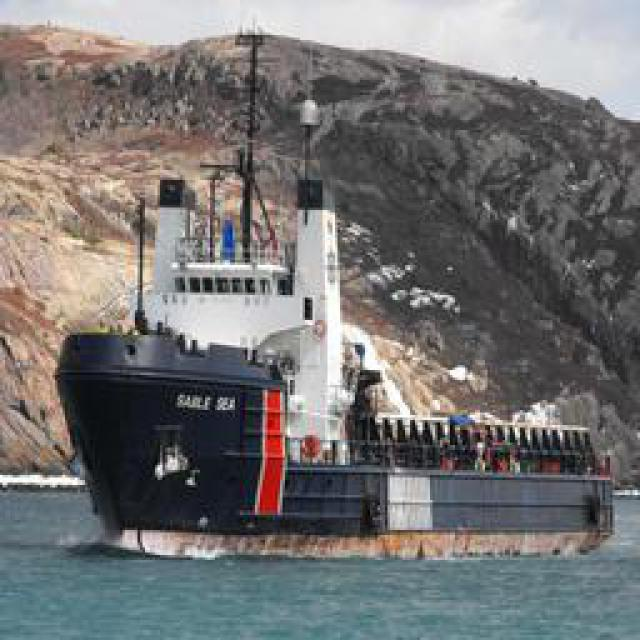Ship: (63, 305, 611, 568)
